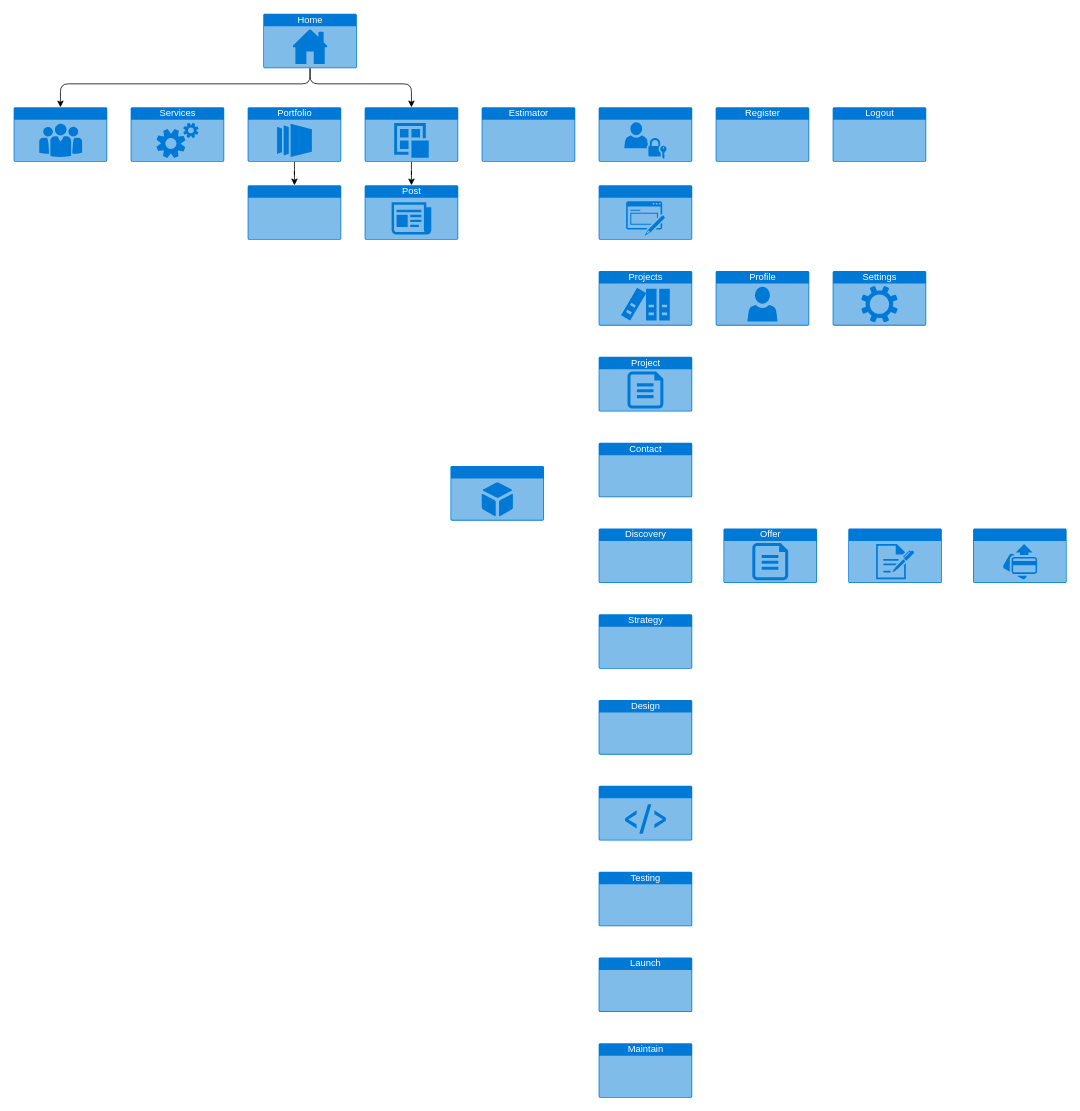
Some shapes in this 1080 by 1111 pixel diagram are drawn without their labels. Here are the shapes that lost their labels. From the top down, the box of each, then its label:
(13, 107, 107, 161): About
(364, 107, 458, 161): Blog
(598, 107, 692, 161): Login
(247, 185, 341, 239): Work
(598, 185, 692, 239): Dashboard
(450, 466, 544, 520): Products
(848, 528, 941, 583): Contract
(973, 528, 1066, 583): Payment
(598, 785, 692, 840): Development
